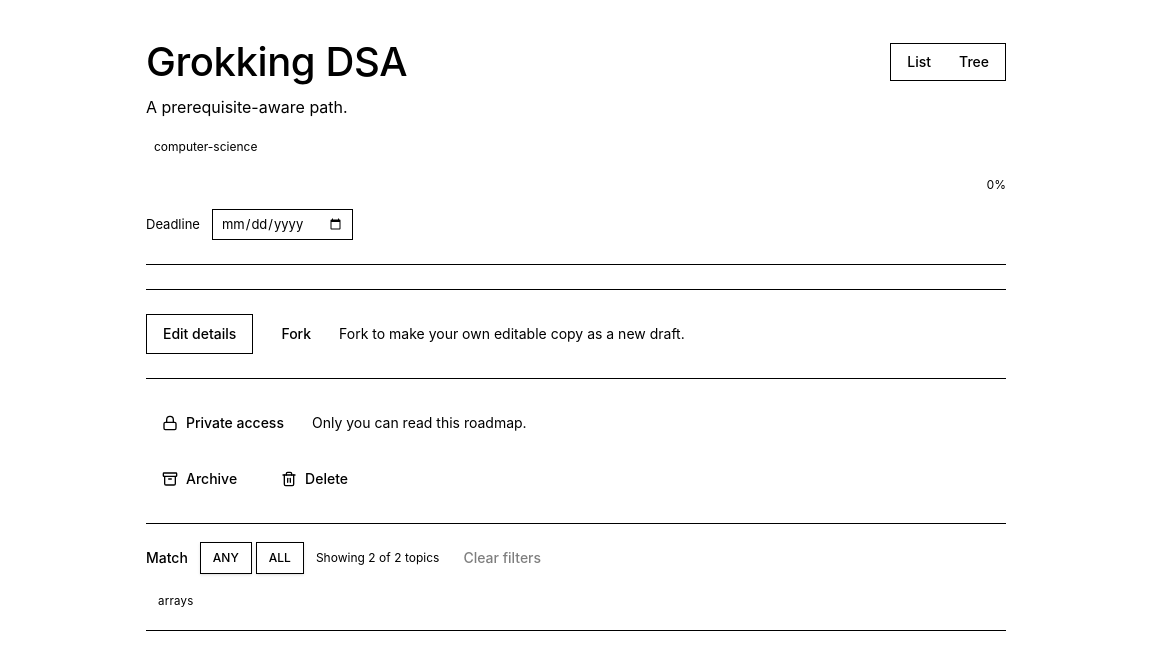
RoadmapView web-only lifecycle › archives a published roadmap after confirmation and shows the archived badge
The width and height of the screenshot is (1152, 662).
Confirm-gated: the first click reveals a confirmation step.
Click the button "Archive" at point(200, 479), box [146, 459, 253, 499]
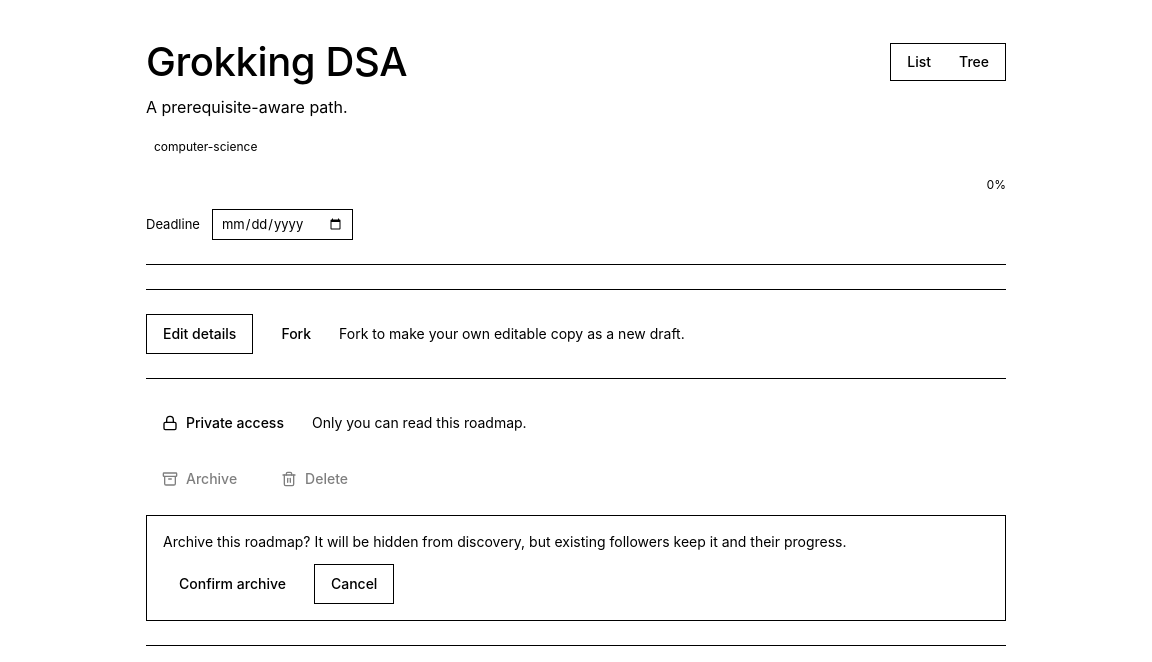
Click the button "Confirm archive" at point(232, 584), box [163, 564, 302, 604]
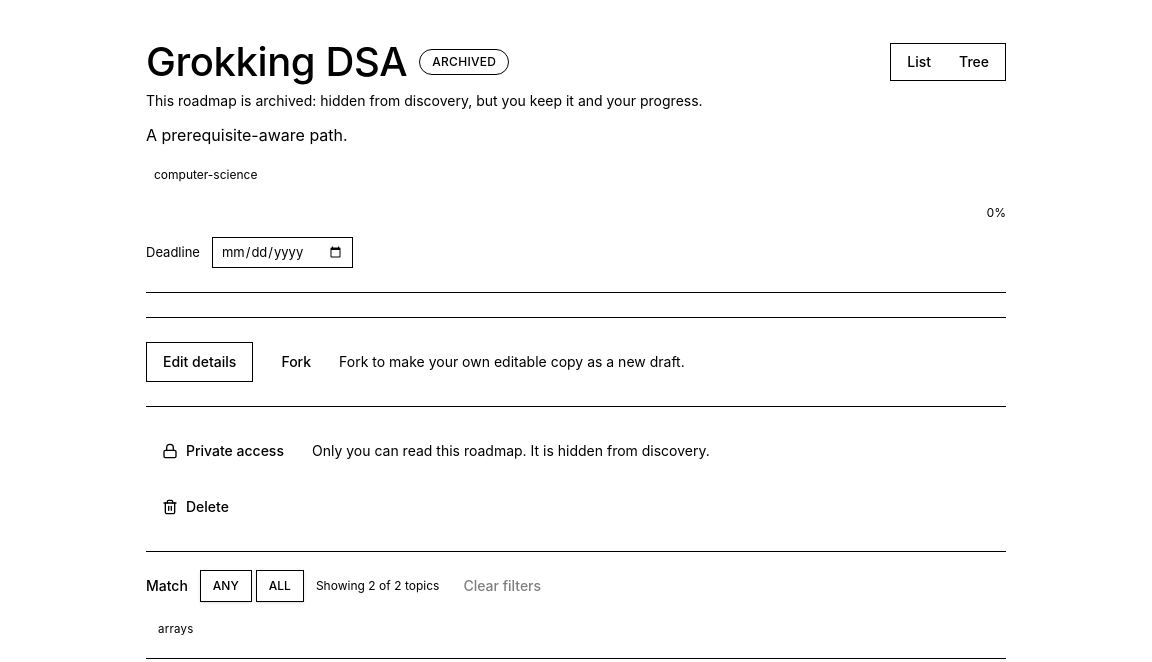
Check: the text "Archived" is shown, box [419, 49, 509, 75]
